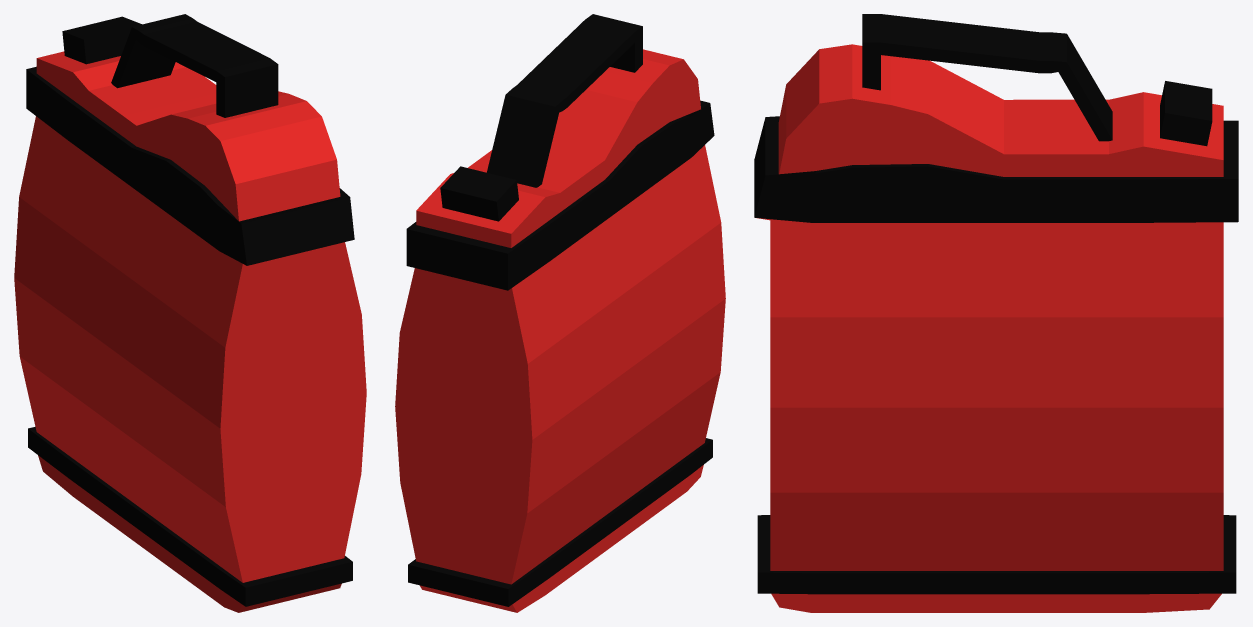
The model's file is jerryCan.fbx.
3 renders of one model, left to right at view 1: azimuth 30°, elevation 25°; view 2: azimuth 150°, elevation 25°; view 3: azimuth 270°, elevation 25°, orthographic. The views are drawn at different scales.
Parts seen in each view (by area): view 1: Cube; view 2: Cube; view 3: Cube.
Boxes of the visible parts, box(x1,y1,x2,y2) form: Cube: box(14, 14, 366, 612); Cube: box(395, 14, 725, 612); Cube: box(754, 14, 1238, 612).
Bounding box in the file's own units: 63.5 × 210 × 166.
